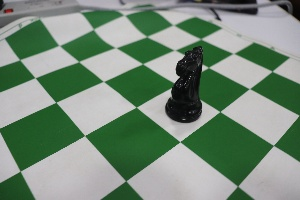black_horse: (160, 36, 216, 133)
